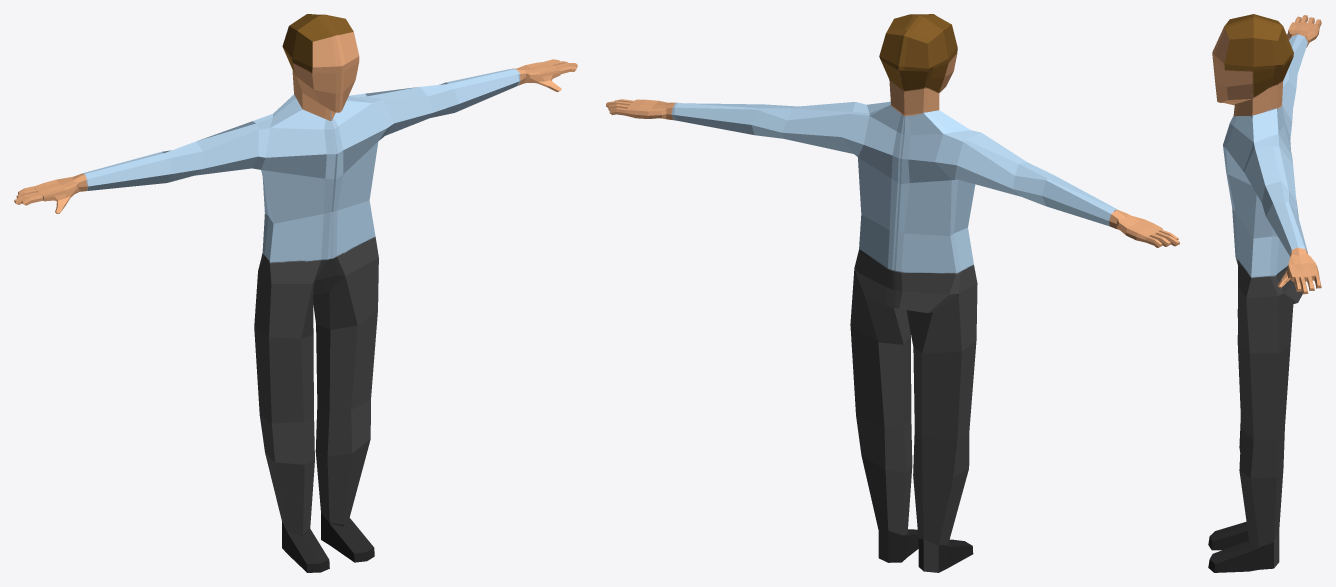
The model's file is henryknox_model.fbx.
3 renders of one model, left to right at view 1: azimuth 30°, elevation 25°; view 2: azimuth 150°, elevation 25°; view 3: azimuth 270°, elevation 25°, orthographic.
Visible parts, largest first — view 1: man_Henry; view 2: man_Henry; view 3: man_Henry.
Boxes of the visible parts, <box> form: man_Henry: <box>14,14,577,572</box>; man_Henry: <box>606,14,1179,572</box>; man_Henry: <box>1208,14,1321,572</box>.
Bounding box in the file's own units: 368 × 338 × 63.7.
